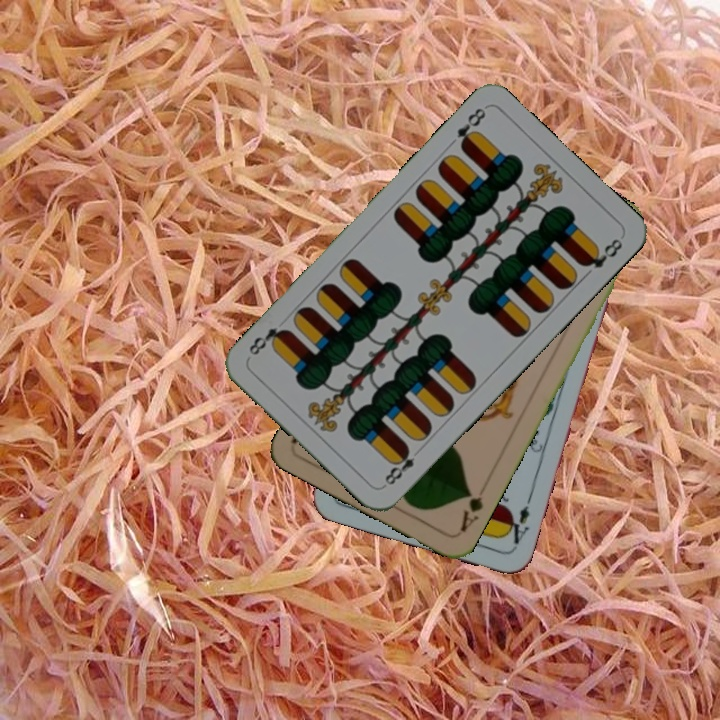E8: (452, 103, 489, 153), (379, 443, 418, 490)
EA: (501, 493, 534, 551)
GA: (455, 486, 486, 535)
